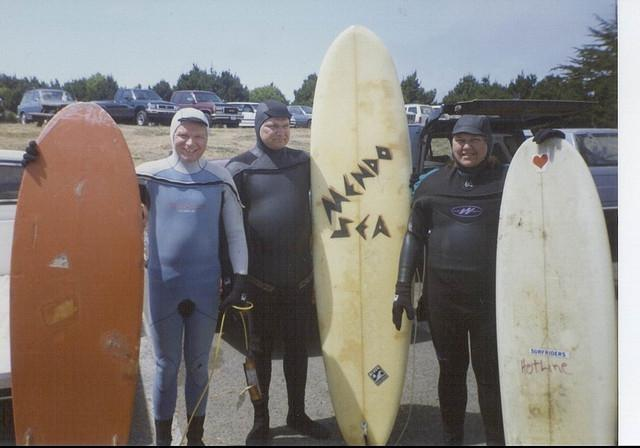car: (556, 128, 618, 208), (169, 90, 243, 128), (16, 89, 74, 124), (226, 100, 296, 127), (30, 102, 73, 124), (402, 103, 434, 124), (286, 106, 313, 128), (405, 110, 417, 123)
truck: (413, 91, 621, 264), (92, 88, 182, 128)
